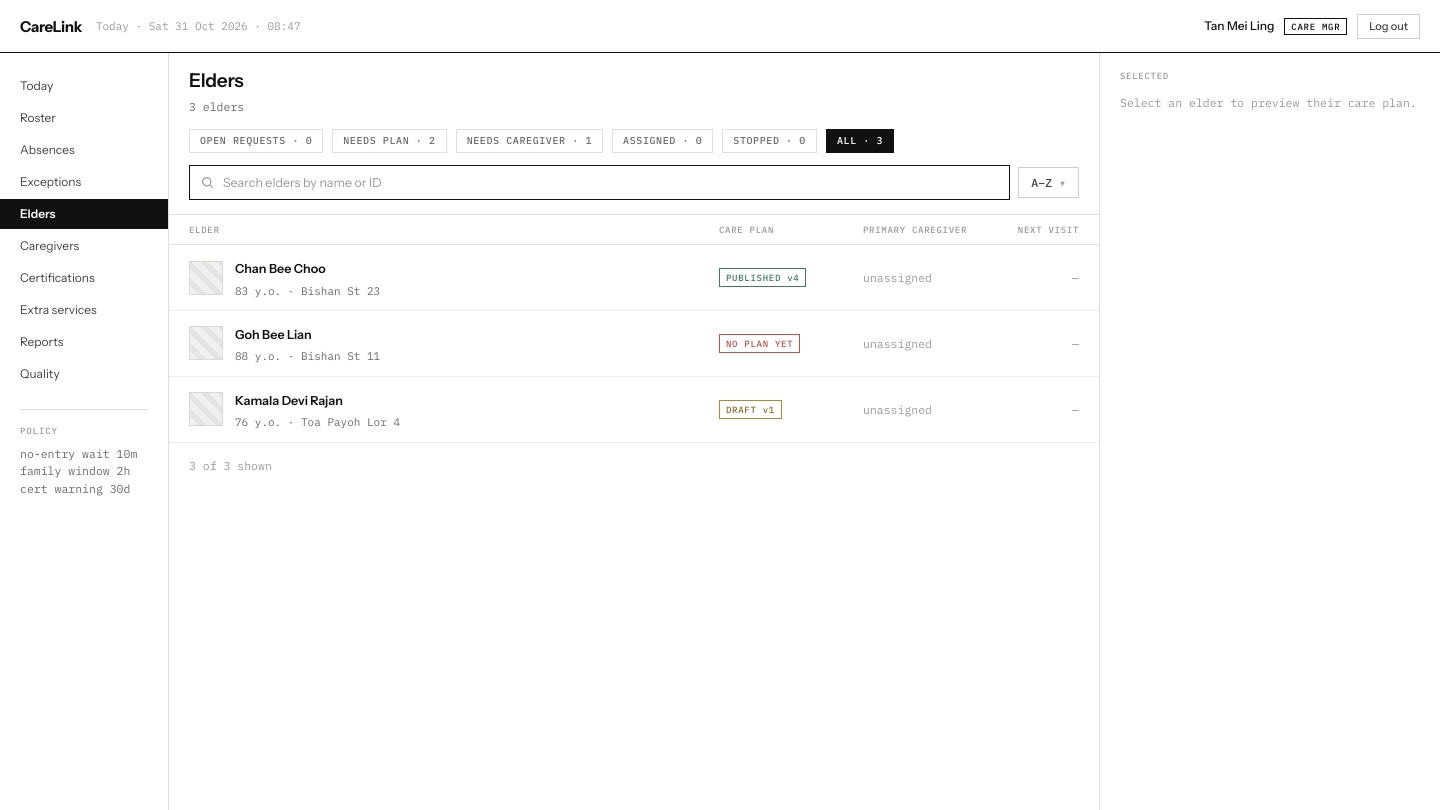
Test case: previews the selected elder in the rail, offering Create care plan when there is none
The width and height of the screenshot is (1440, 810).
Expected: the text "Select an elder to preview their care plan." is shown, 1120,94 -> 1420,111
Click the option "Goh Bee Lian 88 y.o. · Bishan St 11 NO PLAN YET unassigned —" at [206, 343], box 169,311 -> 1099,377
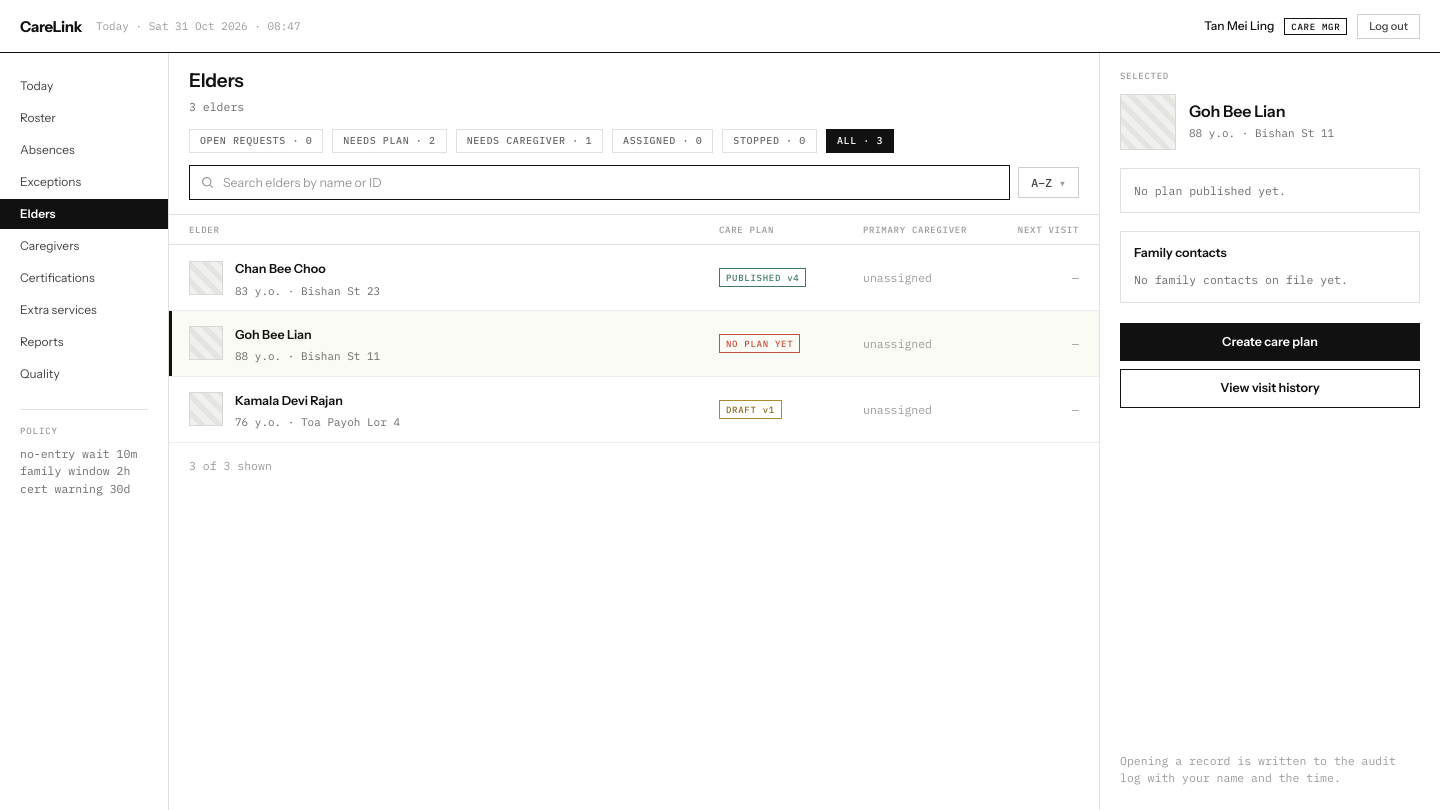
Expected: the text "No plan published yet." is shown, 1134,183 -> 1286,198
Expected: the button "Create care plan" is shown, 1120,322 -> 1420,361
